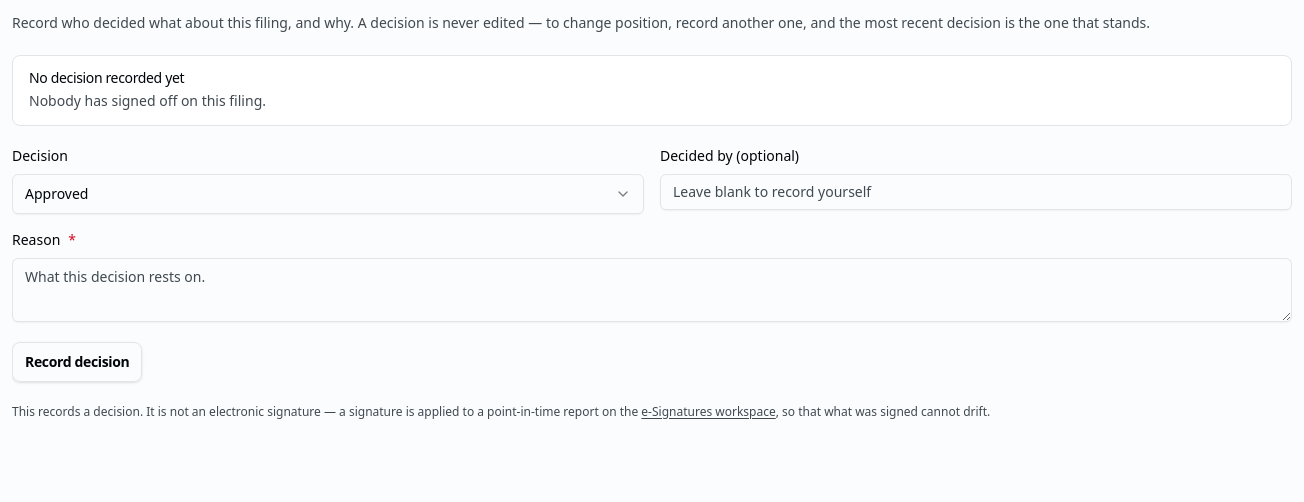
Test: SubjectApprovalsBody › will not record a decision with no reason
Check: the heading "No decision recorded yet" is shown, box [29,68,184,87]
Click the button "Record decision".
click(77, 362)  # box [12,342,142,382]
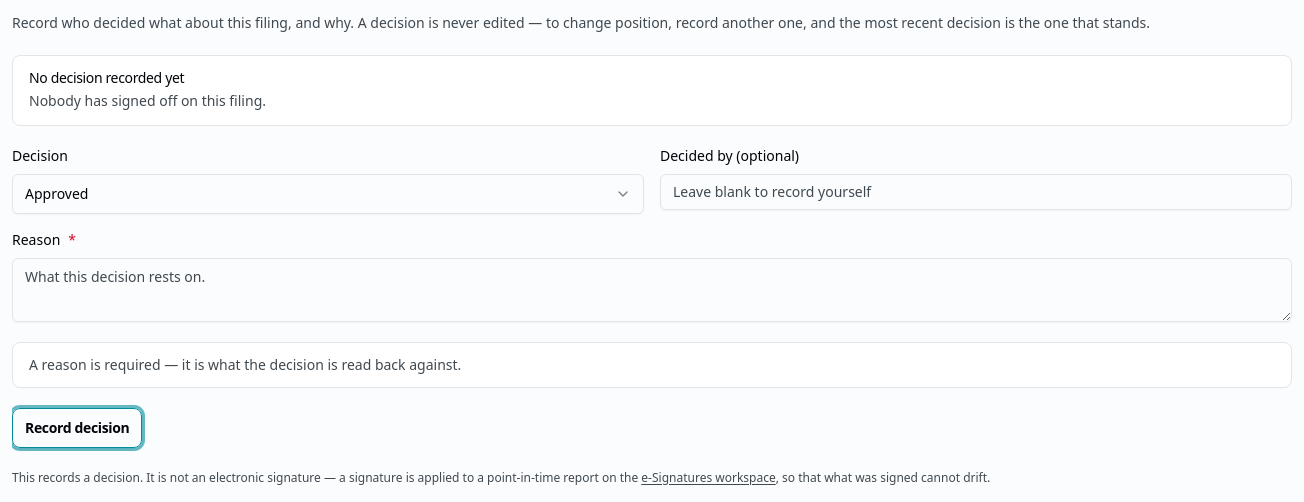
Check: the text "A reason is required" is shown, box [29,354,461,374]
